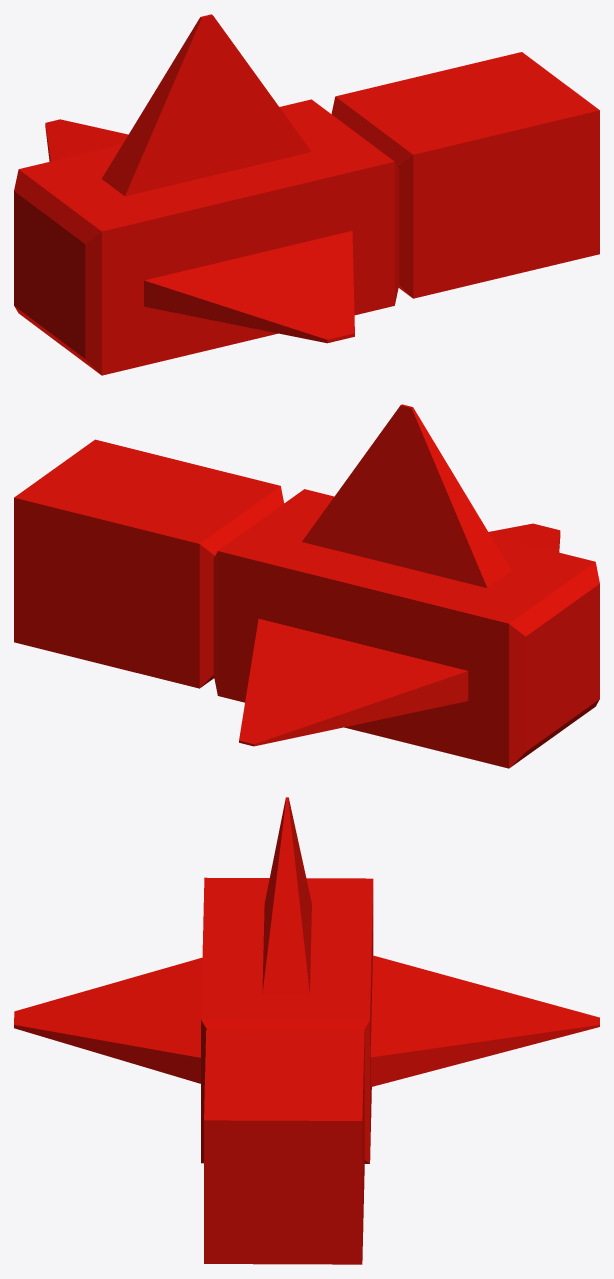
3 renders of one model, top to bottom at view 1: azimuth 30°, elevation 25°; view 2: azimuth 150°, elevation 25°; view 3: azimuth 270°, elevation 25°, orthographic.
Parts seen in each view (by area): view 1: leftuparm; view 2: leftuparm; view 3: leftuparm.
Part boxes in pixels (x1,y1,x2,y2): leftuparm: [14, 14, 599, 375]; leftuparm: [14, 404, 599, 768]; leftuparm: [14, 797, 599, 1264].
Bounding box in the file's own units: 74.74 × 74.58 × 41.12.
